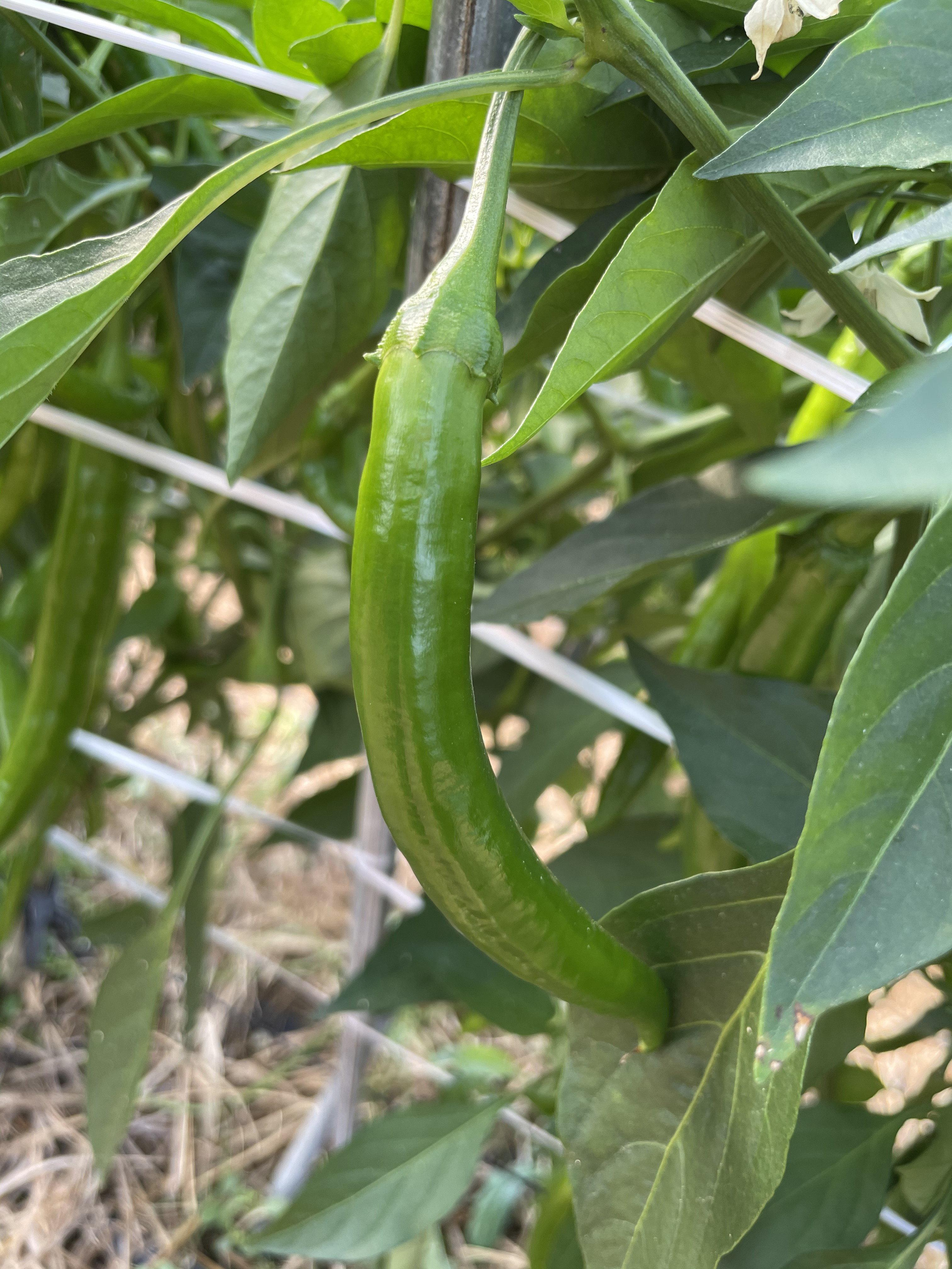Buah Cabai Sehat: (343, 269, 660, 1036)
